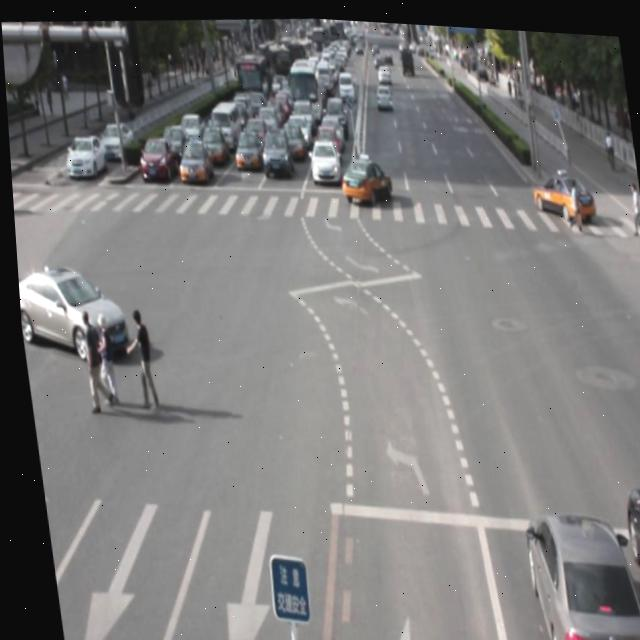car: (514, 508, 637, 640), (13, 257, 126, 359), (614, 479, 640, 640), (335, 148, 393, 202)
